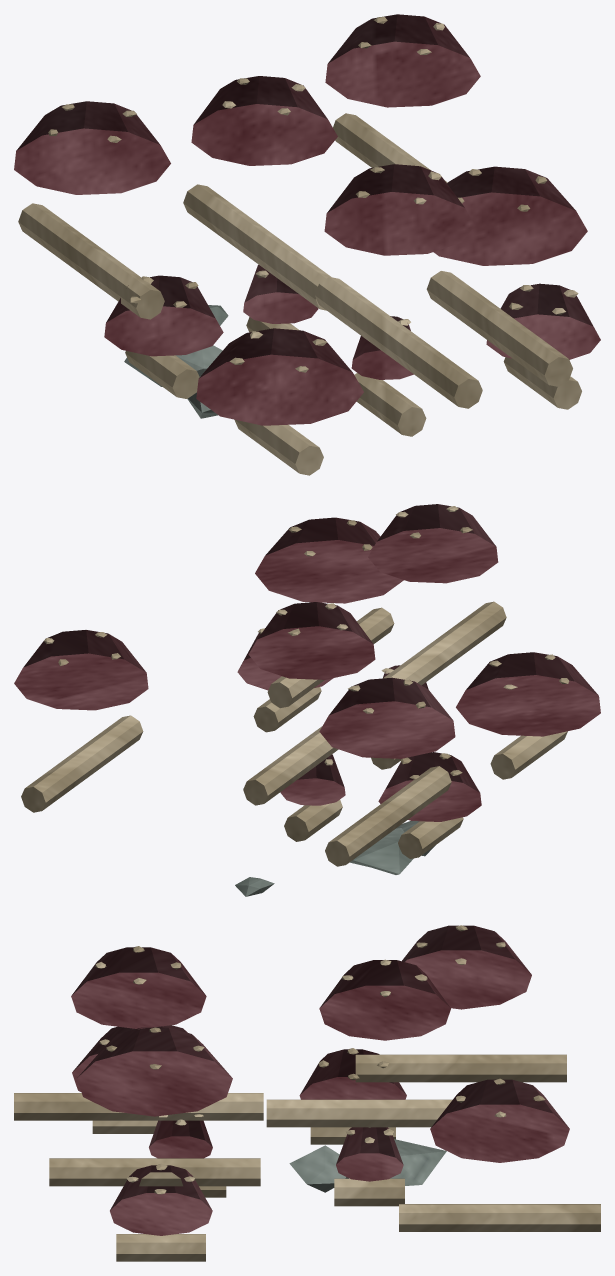
The model's file is 0203_mushroom_patch_03.glb.
3 renders of one model, top to bottom at view 1: azimuth 30°, elevation 25°; view 2: azimuth 150°, elevation 25°; view 3: azimuth 270°, elevation 25°, orthographic. The views are drawn at different scales.
Visible parts, largest first — view 1: cloth, bone, stone; view 2: cloth, bone, stone; view 3: cloth, bone, stone.
Boxes of the visible parts, left/top/right/bottom form: cloth: left=14, top=14, right=600, bottom=425; bone: left=18, top=16, right=581, bottom=475; stone: left=124, top=305, right=228, bottom=418; cloth: left=14, top=504, right=600, bottom=821; bone: left=21, top=506, right=569, bottom=866; stone: left=235, top=821, right=435, bottom=896; cloth: left=71, top=925, right=569, bottom=1235; bone: left=14, top=925, right=600, bottom=1261; stone: left=289, top=1139, right=446, bottom=1192.
Size of the model in its own units: 1.96 by 1.16 by 2.38.
Materials: 3 (3 with a texture image).
